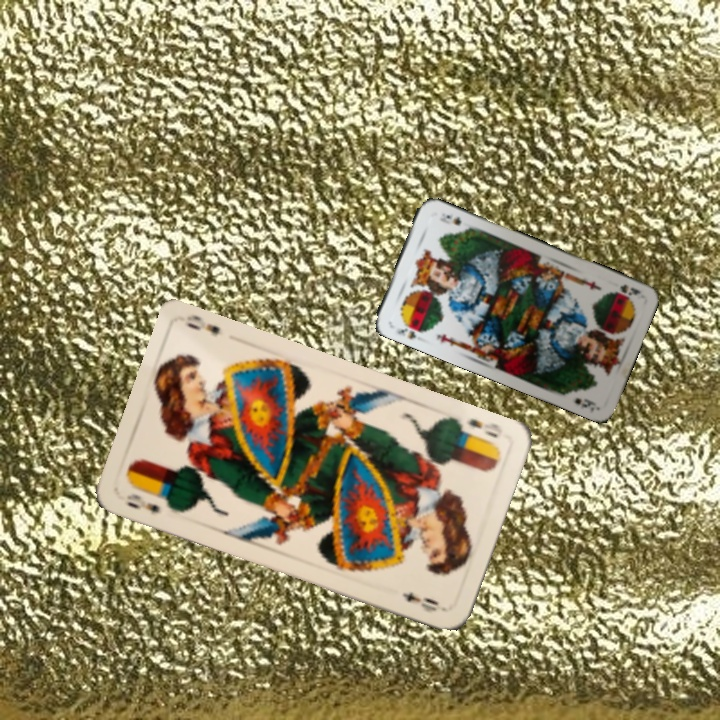EO: (464, 414, 505, 441), (122, 489, 163, 516)
SK: (393, 318, 426, 342), (611, 280, 644, 300)
